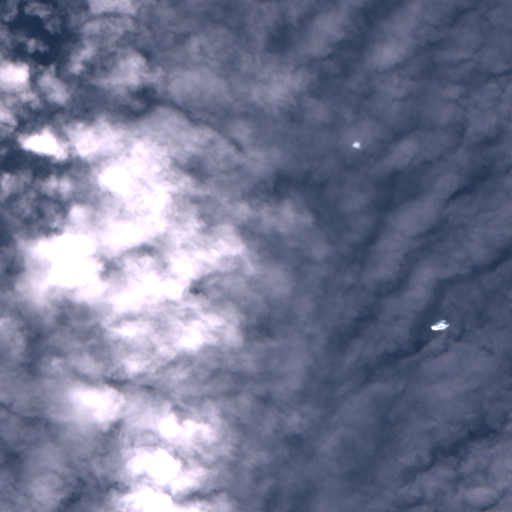Iceberg: (431, 320, 448, 329), (352, 142, 360, 147)
